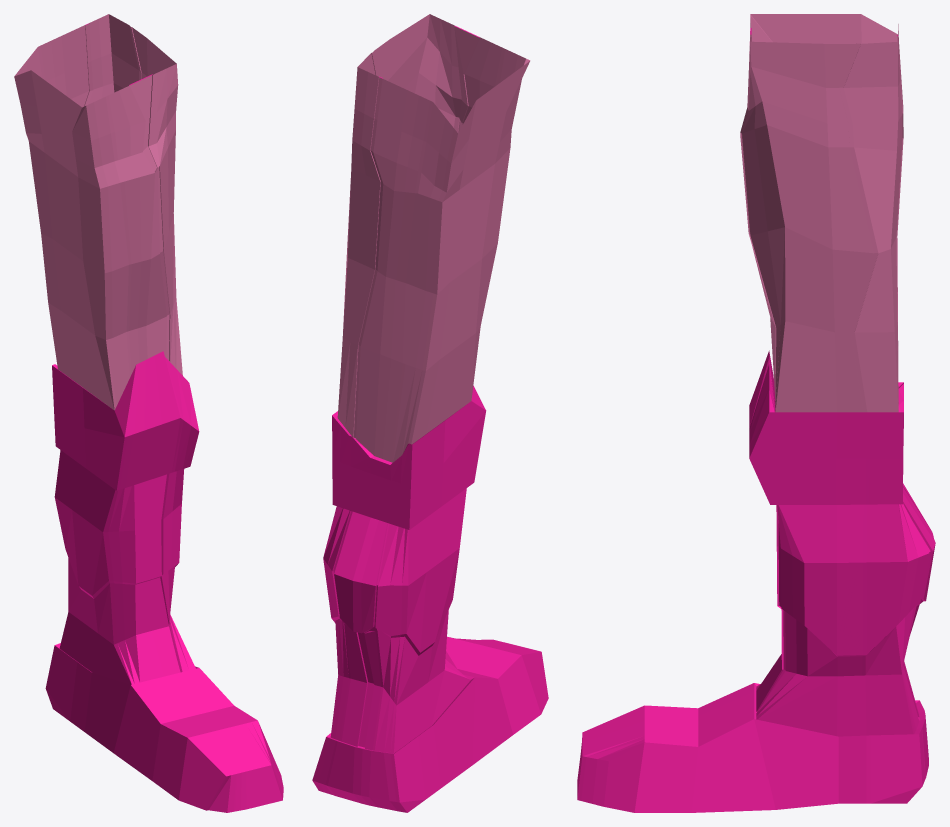
The model's file is leg_robot.fbx.
The picture shows the model from 3 angles, left to right: view 1: azimuth 30°, elevation 25°; view 2: azimuth 150°, elevation 25°; view 3: azimuth 270°, elevation 25°; orthographic projection. The views are drawn at different scales.
Parts seen in each view (by area): view 1: leg; view 2: leg; view 3: leg.
Boxes of the visible parts, x1,y1,x2,y2 form: leg: [14, 14, 283, 812]; leg: [312, 14, 548, 812]; leg: [577, 14, 935, 812].
Size of the model in its own units: 0.2075 by 0.9329 by 0.4067.
